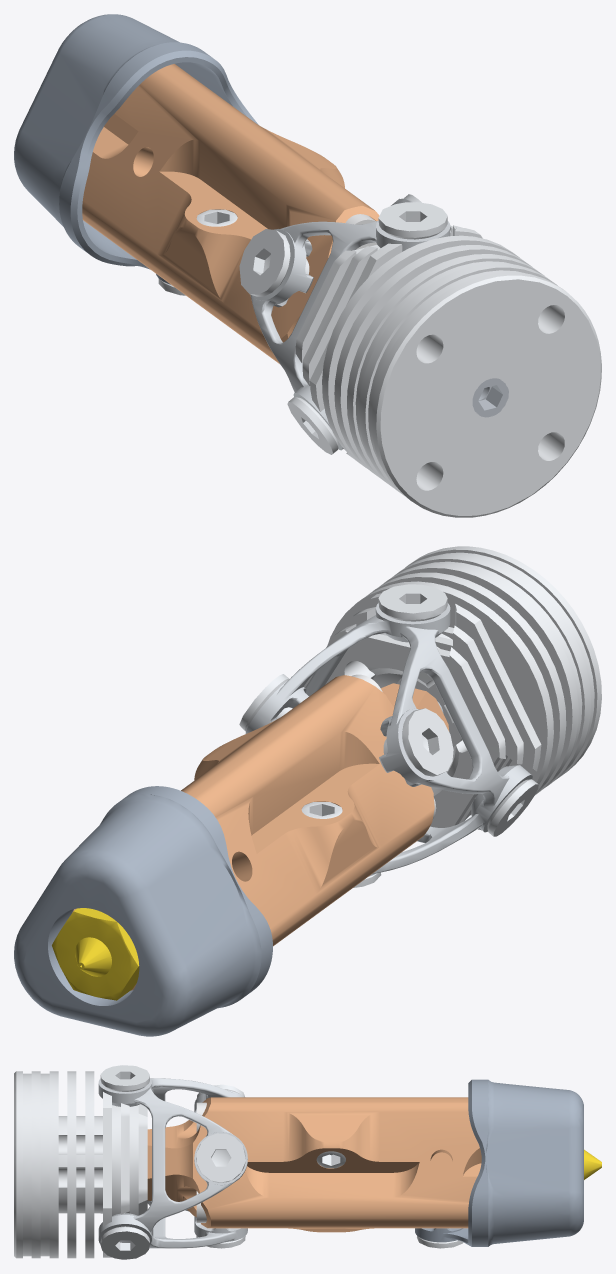
3 views of the same model, one above another, from view 1: azimuth 30°, elevation 25°; view 2: azimuth 150°, elevation 25°; view 3: azimuth 270°, elevation 25° (orthographic). The views are drawn at different scales.
Visible parts, largest first — view 1: heatsink, cucrzr_hotblock, ti_shield_bucket, slm_ti_crown, screw_0, screw_1, screw_3, ti_heatbreak; view 2: ti_shield_bucket, cucrzr_hotblock, heatsink, slm_ti_crown, nozzle, screw_0, screw_1, screw_3, screw_6; view 3: cucrzr_hotblock, heatsink, ti_shield_bucket, slm_ti_crown, screw_6, screw_2, screw_1, screw_9, nozzle, screw_4.
Boxes of the visible parts, box(x1,y1,x2,y2) form: heatsink: box(295, 225, 601, 517); cucrzr_hotblock: box(82, 64, 379, 363); ti_shield_bucket: box(14, 14, 258, 284); slm_ti_crown: box(250, 198, 450, 450); screw_0: box(239, 229, 309, 296); screw_1: box(378, 202, 447, 239); screw_3: box(287, 397, 338, 454); ti_heatbreak: box(472, 378, 508, 417); ti_shield_bucket: box(14, 786, 272, 1036); cucrzr_hotblock: box(72, 675, 449, 990); heatsink: box(303, 546, 601, 831); slm_ti_crown: box(245, 603, 532, 876); nozzle: box(52, 908, 139, 1000); screw_0: box(383, 708, 453, 776); screw_1: box(378, 584, 447, 621); screw_3: box(475, 779, 538, 836); screw_6: box(239, 674, 292, 731); cucrzr_hotblock: box(147, 1097, 481, 1232); heatsink: box(14, 1071, 147, 1258); ti_shield_bucket: box(415, 1079, 583, 1246); slm_ti_crown: box(98, 1078, 247, 1248); screw_6: box(196, 1133, 245, 1182); screw_2: box(100, 1226, 149, 1259); screw_1: box(100, 1065, 149, 1091); screw_9: box(316, 1151, 345, 1168); nozzle: box(584, 1149, 601, 1179); screw_4: box(417, 1236, 463, 1248).
Size of the model in its own units: 0.0219 by 0.0216 by 0.066.
